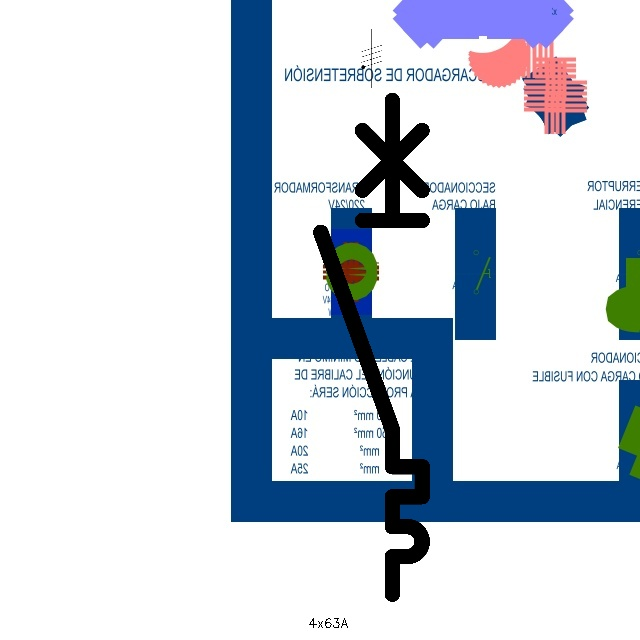interruptor_termomagnetico: (308, 87, 435, 606)
